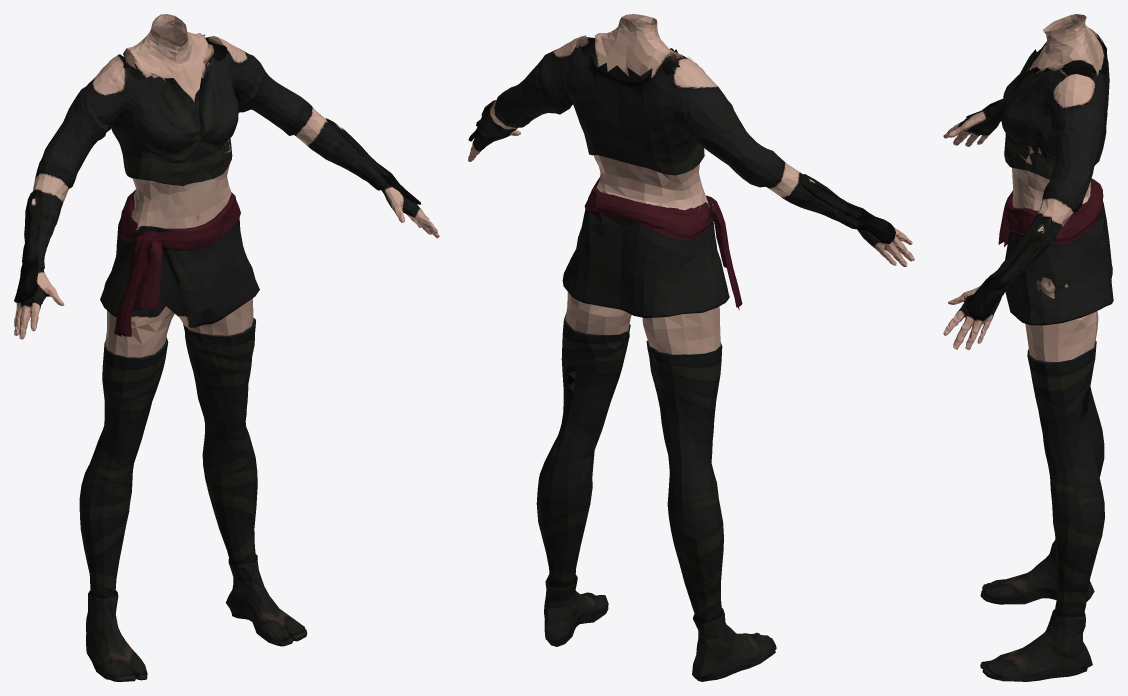
The model's file is ewm_t2ninjaf_outfit.glb.
3 renders of one model, left to right at view 1: azimuth 30°, elevation 25°; view 2: azimuth 150°, elevation 25°; view 3: azimuth 270°, elevation 25°, orthographic. The views are drawn at different scales.
Visible parts, largest first — view 1: ewm_t2ninjaf_outfit; view 2: ewm_t2ninjaf_outfit; view 3: ewm_t2ninjaf_outfit.
Part boxes in pixels (x1=…): ewm_t2ninjaf_outfit: x1=14, y1=14, x2=439, y2=681; ewm_t2ninjaf_outfit: x1=468, y1=14, x2=914, y2=681; ewm_t2ninjaf_outfit: x1=943, y1=14, x2=1113, y2=681.
Size of the model in its own units: 1.19 by 1.66 by 0.4154.
1 material, 1 textured.
